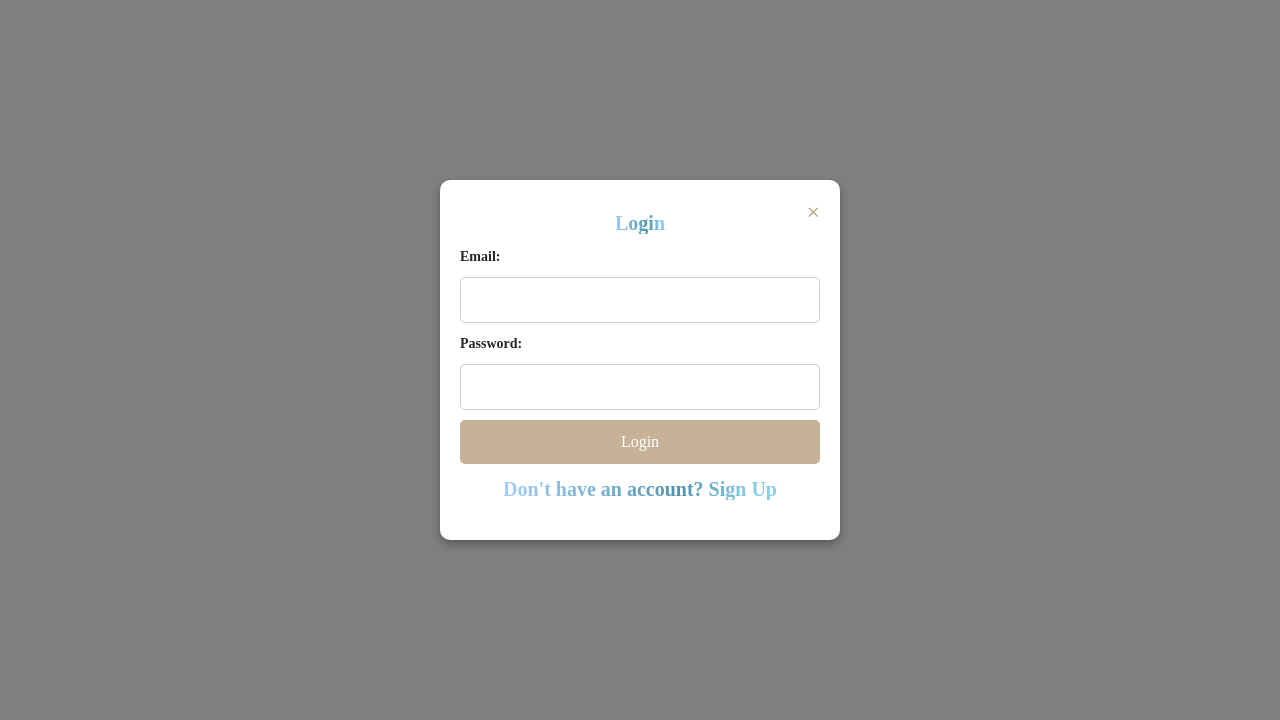
Test: Login Component › switches back to login form when clicking login link
Click the text "Don't have an account? Sign Up" at [640, 489], box x1=503 y1=478 x2=777 y2=500
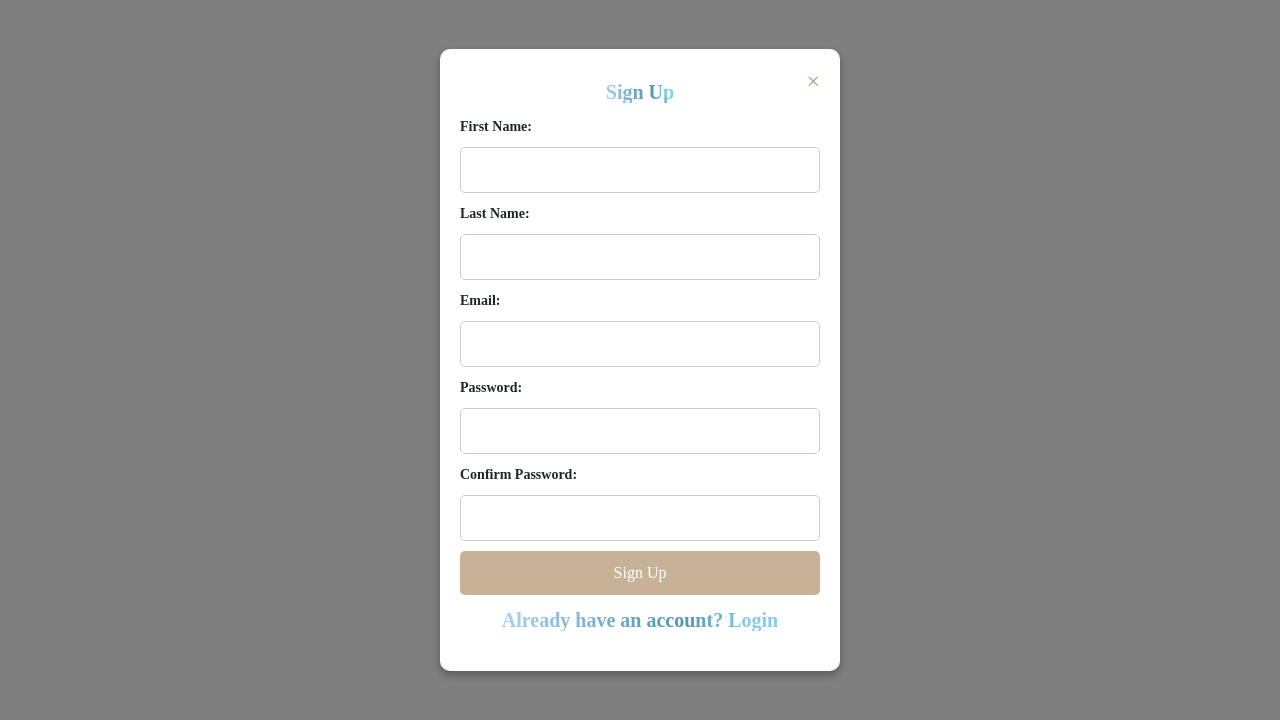
Click the text "Already have an account? Login" at [640, 620], box x1=502 y1=609 x2=778 y2=631
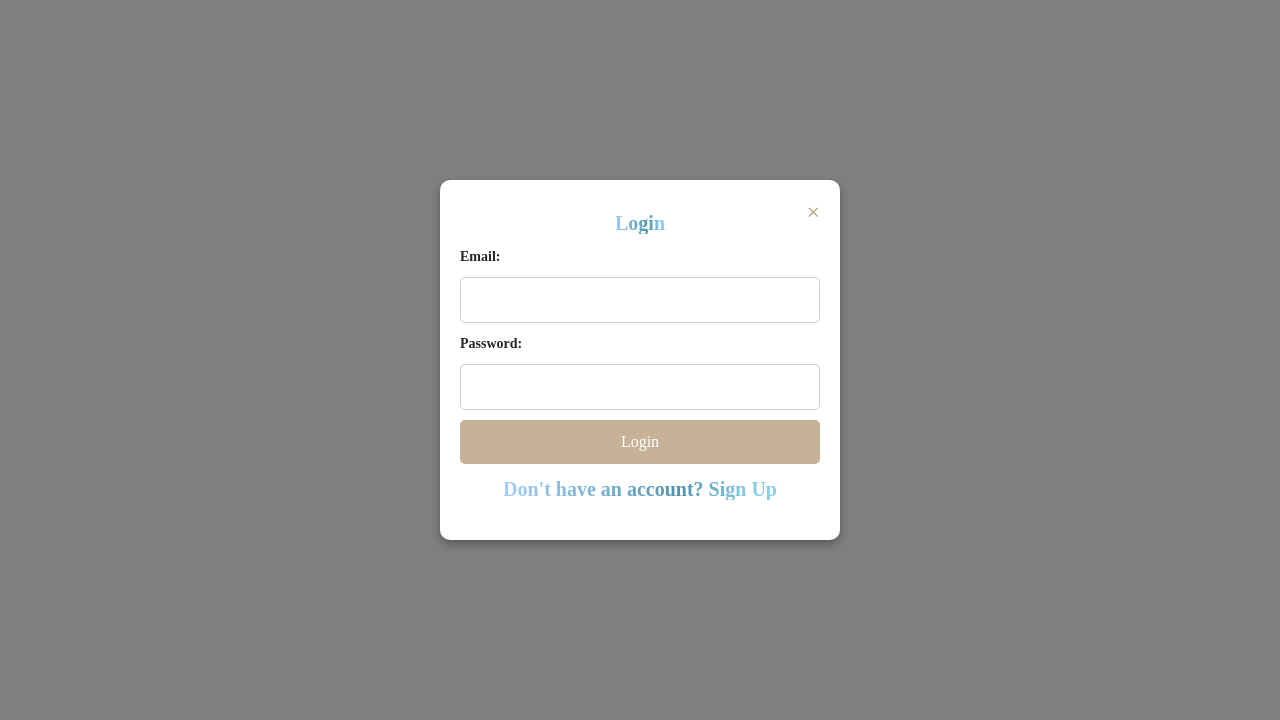
Result: the heading "Login" is shown at x1=615 y1=212 x2=665 y2=234
Result: the button "Login" is shown at x1=460 y1=420 x2=820 y2=464
